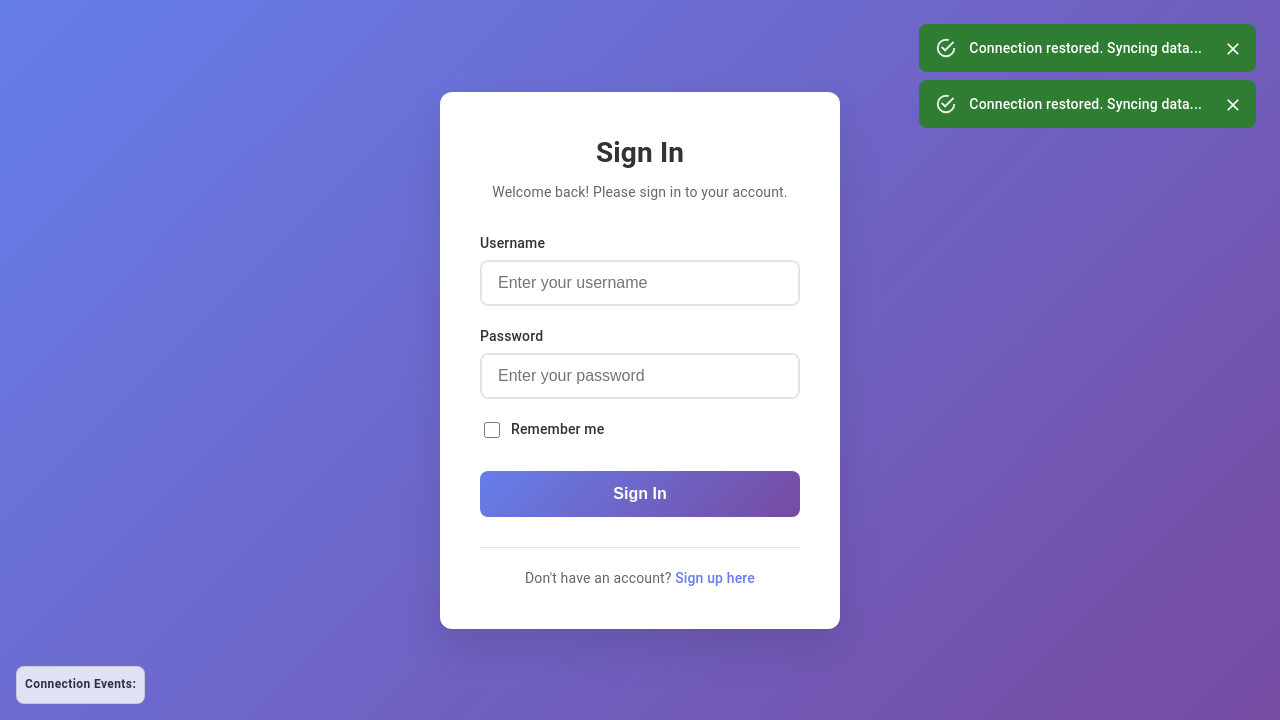
Scenario: Authentication Flow › Login Page › should show validation errors for empty fields
Try to submit empty form
Click the button with class "login-button": coordinates (640, 494) [480, 471, 800, 517]
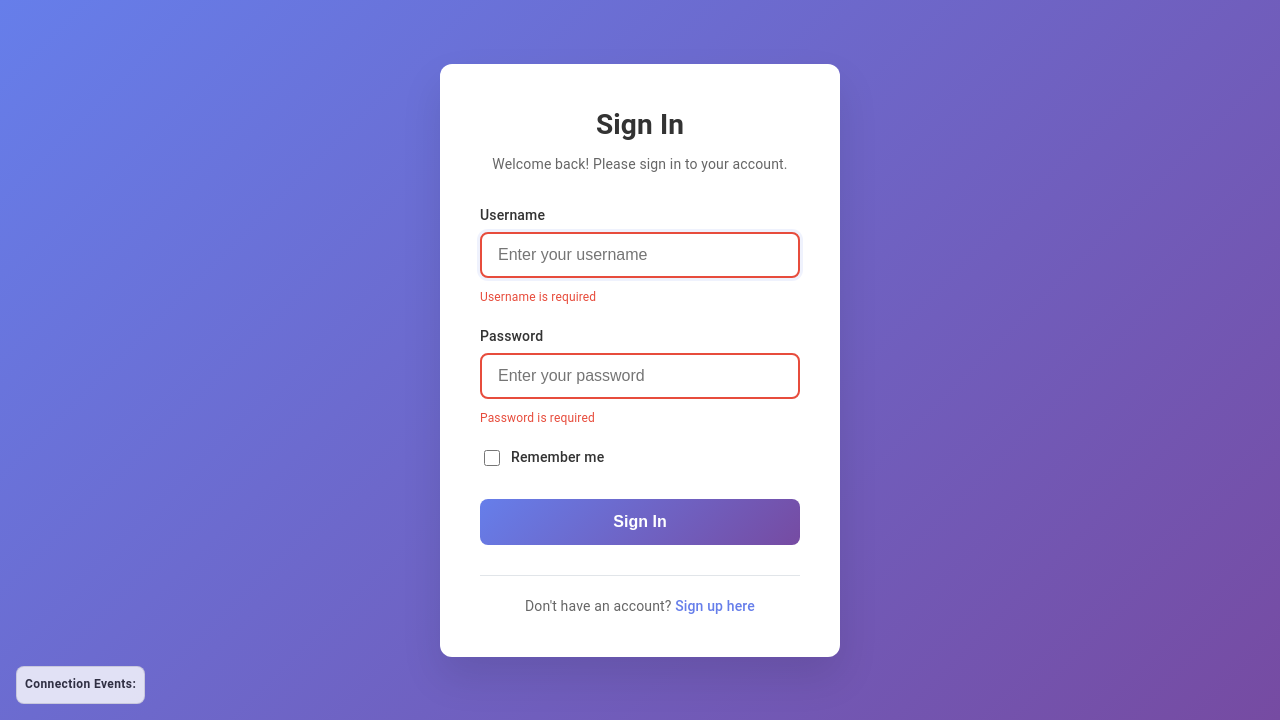
Check: the text "Username is required" is shown, box [480, 290, 596, 304]
Check: the text "Password is required" is shown, box [480, 410, 595, 424]
